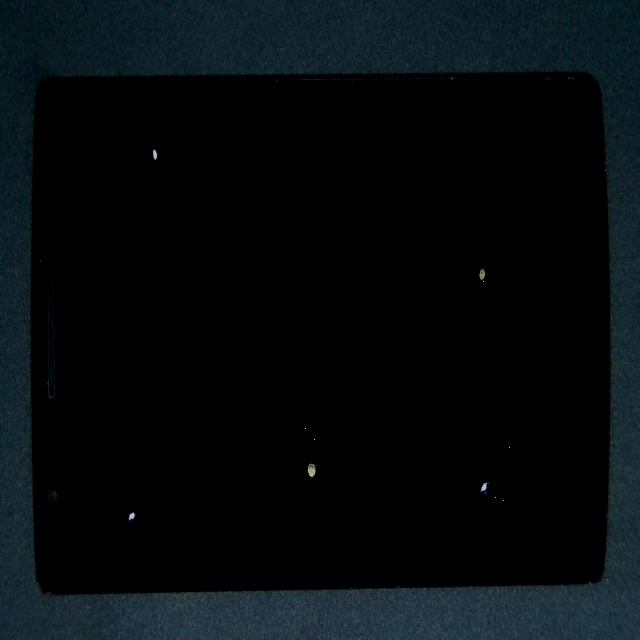stain: (205, 260, 640, 640), (132, 244, 457, 640), (260, 86, 640, 384), (51, 247, 176, 640), (55, 52, 208, 249)
